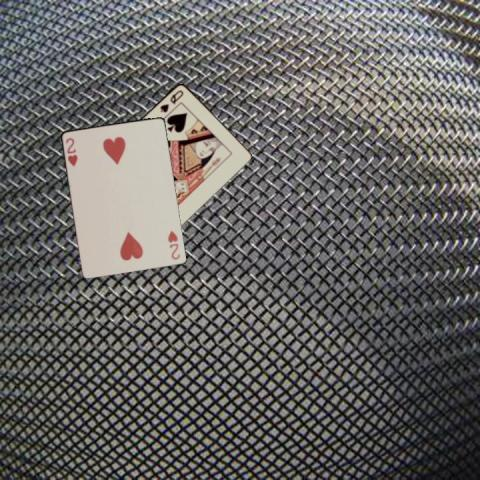2h: (165, 227, 181, 261), (63, 135, 78, 167)
Qs: (157, 87, 185, 113)
